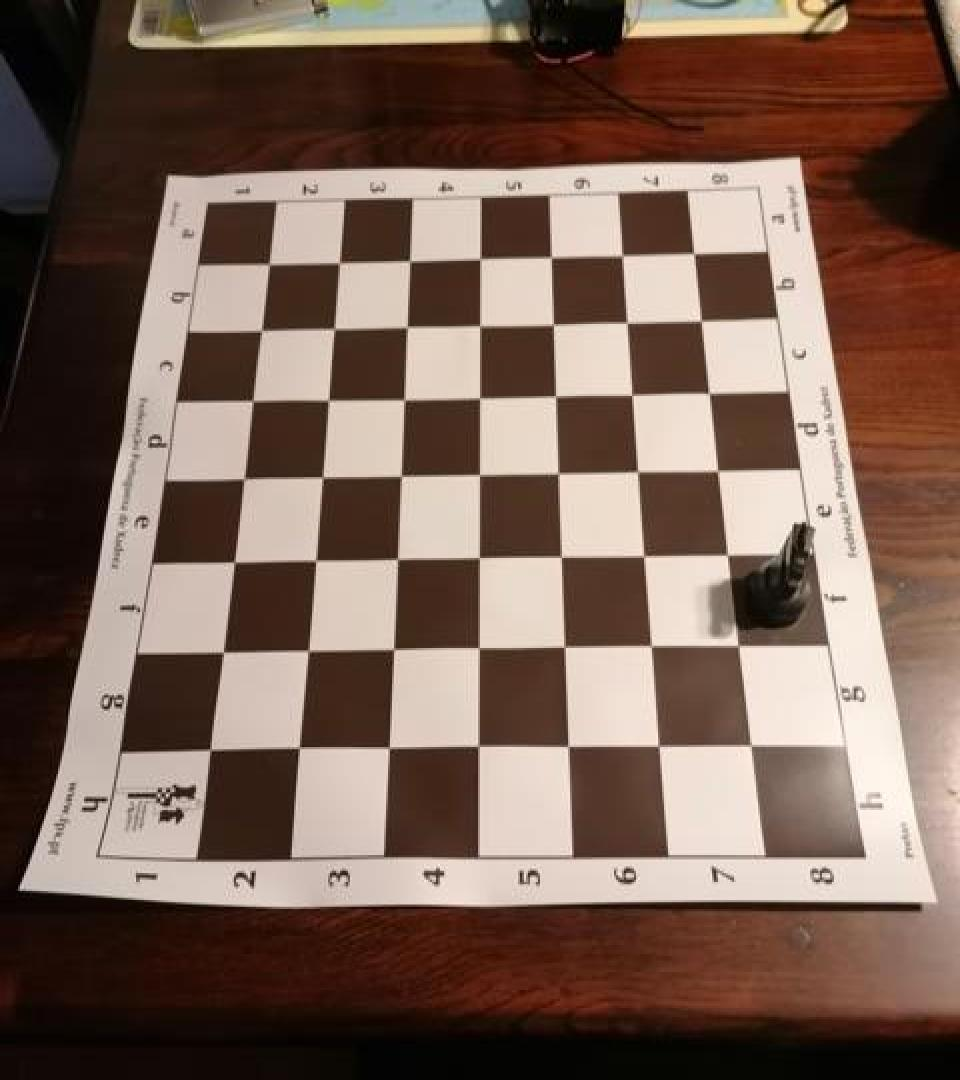xcorner: (631, 536, 663, 573), (213, 544, 245, 581), (189, 732, 221, 769), (683, 234, 715, 270), (609, 236, 641, 272), (537, 238, 569, 274), (465, 241, 497, 277), (393, 243, 425, 279), (322, 245, 354, 281), (251, 248, 283, 284), (690, 300, 722, 336), (614, 302, 646, 338), (539, 305, 571, 341), (464, 307, 496, 343), (390, 310, 422, 346), (316, 312, 348, 348), (242, 314, 274, 350), (698, 372, 730, 408), (619, 374, 651, 410), (541, 377, 573, 413), (463, 379, 495, 415), (386, 382, 418, 418), (309, 382, 341, 418), (233, 385, 265, 421), (707, 451, 739, 487), (625, 452, 657, 488), (543, 454, 575, 490), (462, 456, 494, 492), (382, 458, 414, 494), (303, 460, 335, 496), (223, 461, 255, 497), (716, 534, 748, 570), (546, 538, 578, 574), (462, 540, 494, 576), (378, 541, 410, 577), (295, 542, 327, 578), (726, 626, 758, 662), (637, 628, 669, 664), (548, 629, 580, 665), (461, 630, 493, 666), (373, 632, 405, 668), (287, 634, 319, 670), (201, 634, 233, 670), (737, 727, 769, 763), (644, 728, 676, 764), (551, 729, 583, 765), (460, 729, 492, 765), (368, 730, 400, 766), (278, 731, 310, 767)
